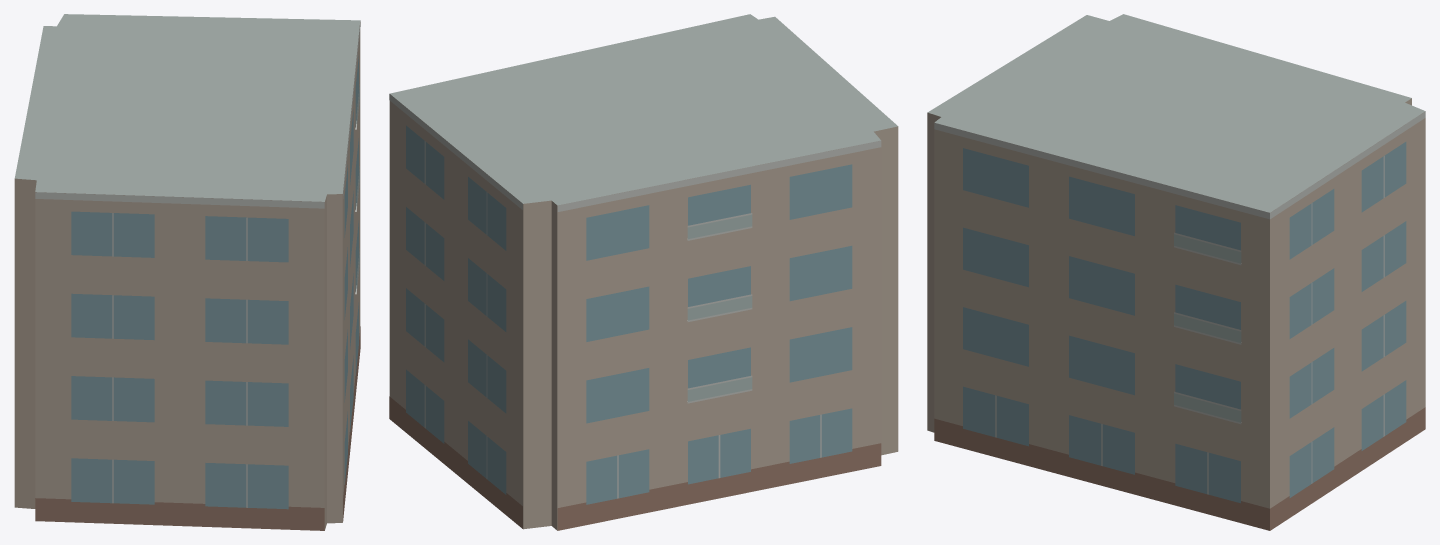
The model's file is survey-upis-32672884.glb.
3 views of the same model, side by side, from view 1: azimuth 30°, elevation 25°; view 2: azimuth 150°, elevation 25°; view 3: azimuth 270°, elevation 25° (orthographic). The views are drawn at different scales.
Visible parts, largest first — view 1: survey-upis-32672884.tmp; view 2: survey-upis-32672884.tmp; view 3: survey-upis-32672884.tmp.
Boxes of the visible parts, x1,y1,x2,y2 form: survey-upis-32672884.tmp: (14,14,360,530); survey-upis-32672884.tmp: (389,14,898,530); survey-upis-32672884.tmp: (927,14,1425,530).
Size of the model in its own units: 15.83 by 11.8 by 16.76.
